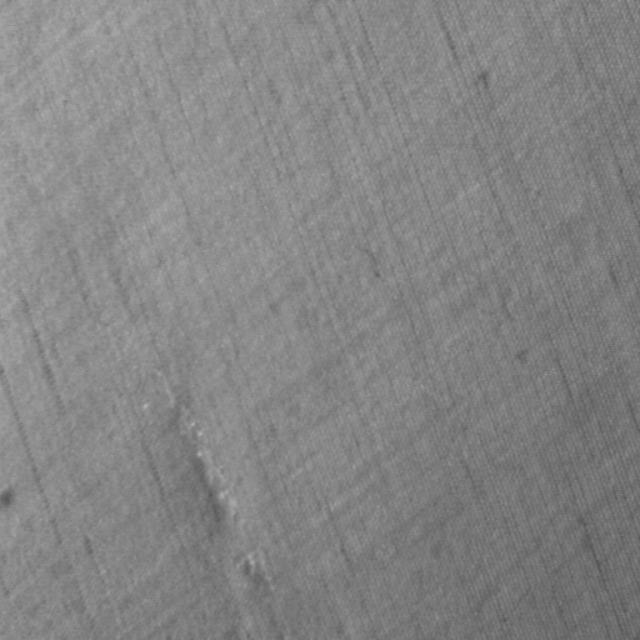thread error: (162, 385, 273, 623)
